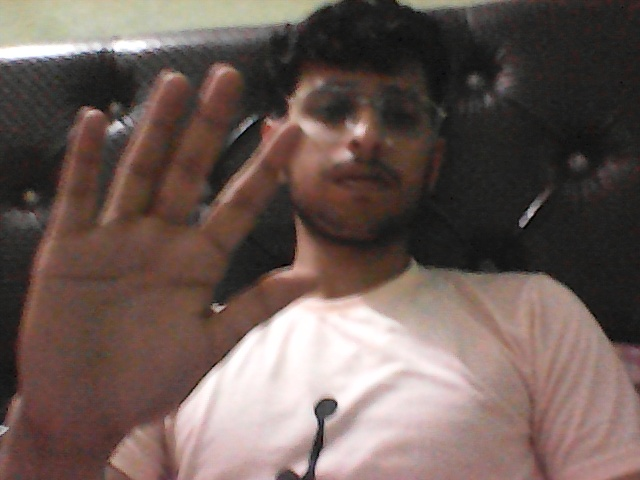hello: (21, 50, 325, 479)
